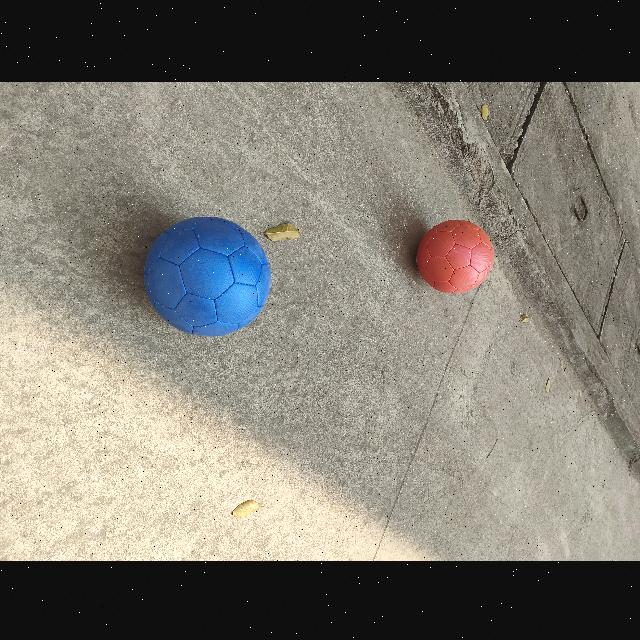B: (140, 213, 270, 337)
R: (413, 218, 494, 293)
